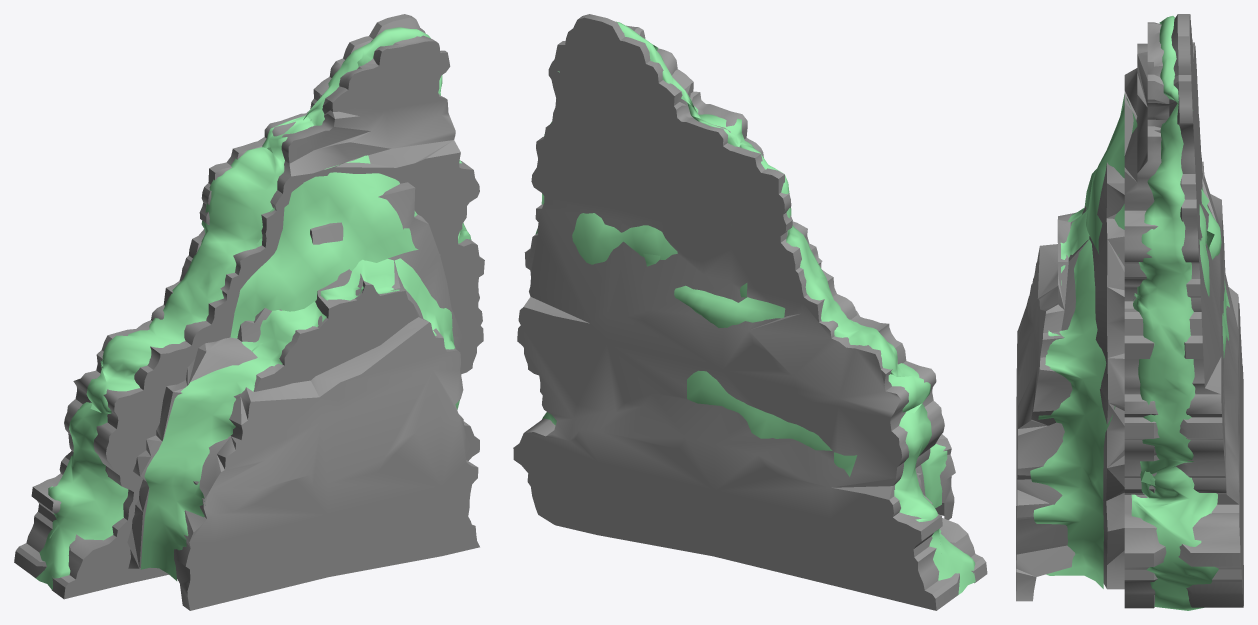
File: SM_Castle_Wall_C.fbx
The picture shows the model from 3 angles, left to right: view 1: azimuth 30°, elevation 25°; view 2: azimuth 150°, elevation 25°; view 3: azimuth 270°, elevation 25°; orthographic projection. The views are drawn at different scales.
Visible parts, largest first — view 1: SM_Castle_Wall_C_LOD0; view 2: SM_Castle_Wall_C_LOD0; view 3: SM_Castle_Wall_C_LOD0.
Part boxes in pixels (box(x1,y1,x2,y2)): SM_Castle_Wall_C_LOD0: box(14, 14, 484, 610); SM_Castle_Wall_C_LOD0: box(513, 14, 987, 610); SM_Castle_Wall_C_LOD0: box(1016, 14, 1243, 610).
Size of what is drawn, in the model's own units: 869 by 953 by 342.
